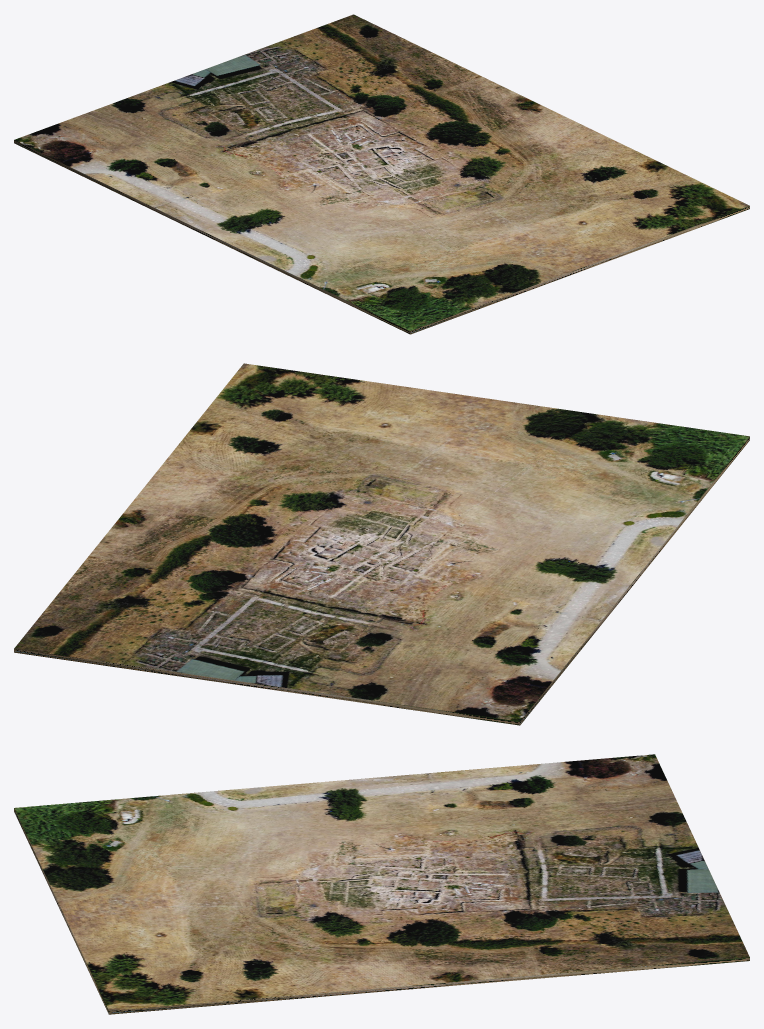
File: terreno-ampio.gltf
3 renders of one model, top to bottom at view 1: azimuth 30°, elevation 25°; view 2: azimuth 150°, elevation 25°; view 3: azimuth 270°, elevation 25°, orthographic. The views are drawn at different scales.
Parts seen in each view (by area): view 1: Terreno_Aereo; view 2: Terreno_Aereo; view 3: Terreno_Aereo.
Boxes of the visible parts, box(x1,y1,x2,y2) form: Terreno_Aereo: box(14, 14, 749, 334); Terreno_Aereo: box(14, 363, 749, 725); Terreno_Aereo: box(14, 754, 749, 1014).
Bounding box in the file's own units: 130 × 0.8475 × 158.
1 material, 1 textured.
